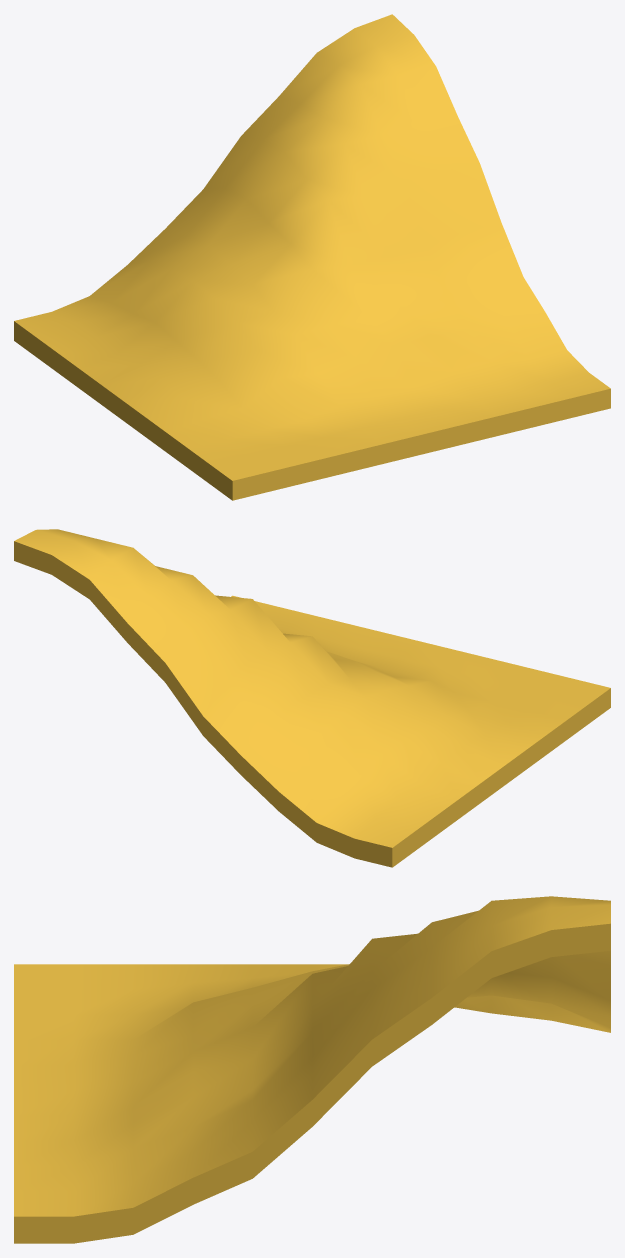
The model's file is Steil - Unten - Ecke a - a.fbx.
3 views of the same model, one above another, from view 1: azimuth 30°, elevation 25°; view 2: azimuth 150°, elevation 25°; view 3: azimuth 270°, elevation 25° (orthographic). The views are drawn at different scales.
Visible parts, largest first — view 1: Steil - Unten - Ecke a - a; view 2: Steil - Unten - Ecke a - a; view 3: Steil - Unten - Ecke a - a.
Part boxes in pixels (bbox=[...]): Steil - Unten - Ecke a - a: bbox=[14, 14, 610, 500]; Steil - Unten - Ecke a - a: bbox=[14, 529, 610, 867]; Steil - Unten - Ecke a - a: bbox=[14, 896, 610, 1243].
Bounding box in the file's own units: 394 × 233 × 394.
